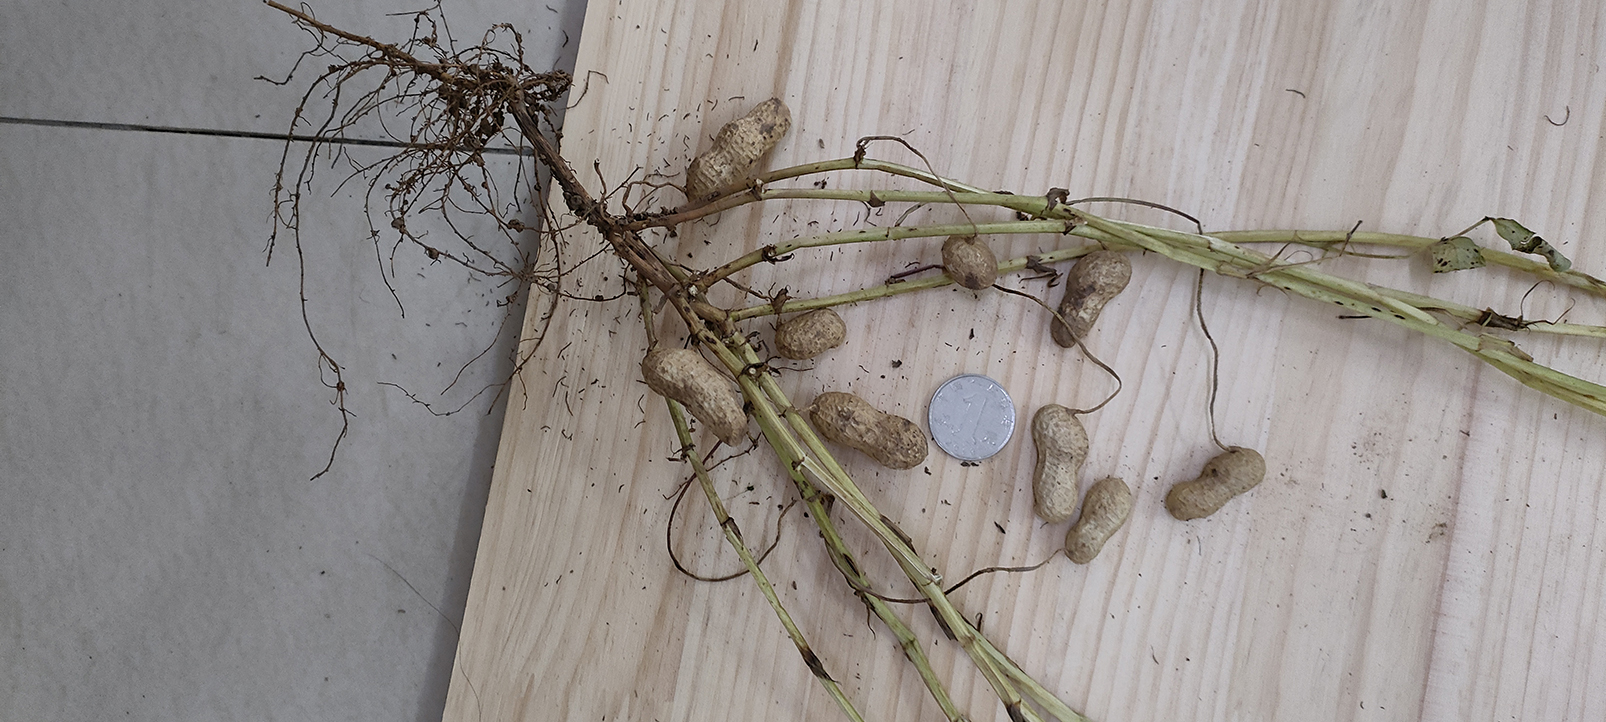h: (687, 97, 790, 202), (640, 347, 746, 445), (1163, 445, 1267, 522), (1031, 404, 1089, 527), (1063, 476, 1134, 567), (775, 305, 849, 358), (943, 233, 1000, 288)
l: (811, 393, 928, 470), (1051, 249, 1133, 348)
